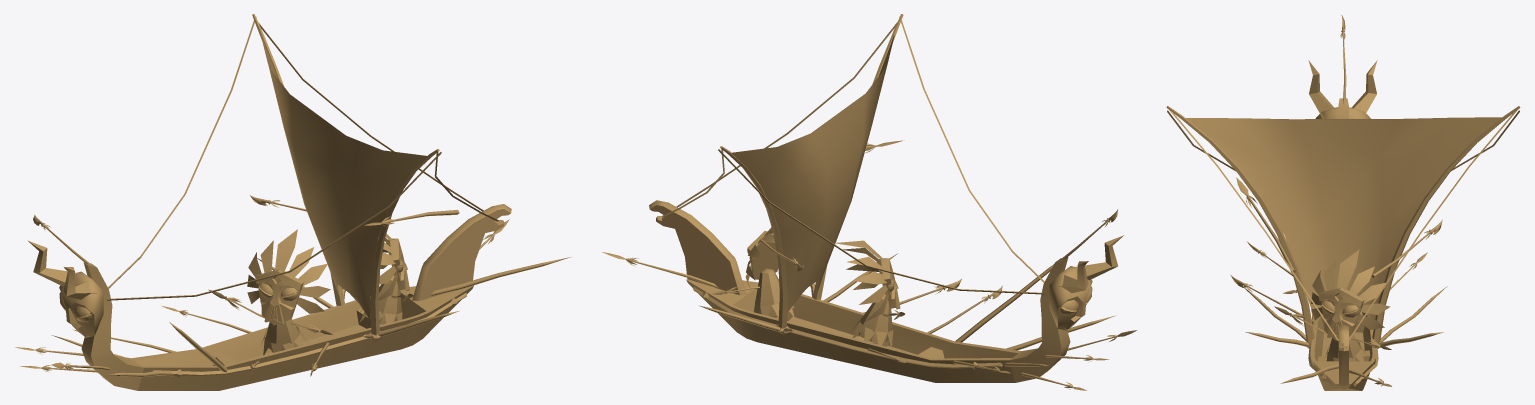
The model's file is Boat_Africa.obj.
The picture shows the model from 3 angles, left to right: view 1: azimuth 30°, elevation 25°; view 2: azimuth 150°, elevation 25°; view 3: azimuth 270°, elevation 25°; orthographic projection. The views are drawn at different scales.
Parts seen in each view (by area): view 1: EnnemiBoatSmall; view 2: EnnemiBoatSmall; view 3: EnnemiBoatSmall.
Boxes of the visible parts, x1,y1,x2,y2 form: EnnemiBoatSmall: (15, 14, 570, 390); EnnemiBoatSmall: (602, 14, 1137, 390); EnnemiBoatSmall: (1166, 15, 1520, 390).
Bounding box in the file's own units: 171 × 86.54 × 108.
